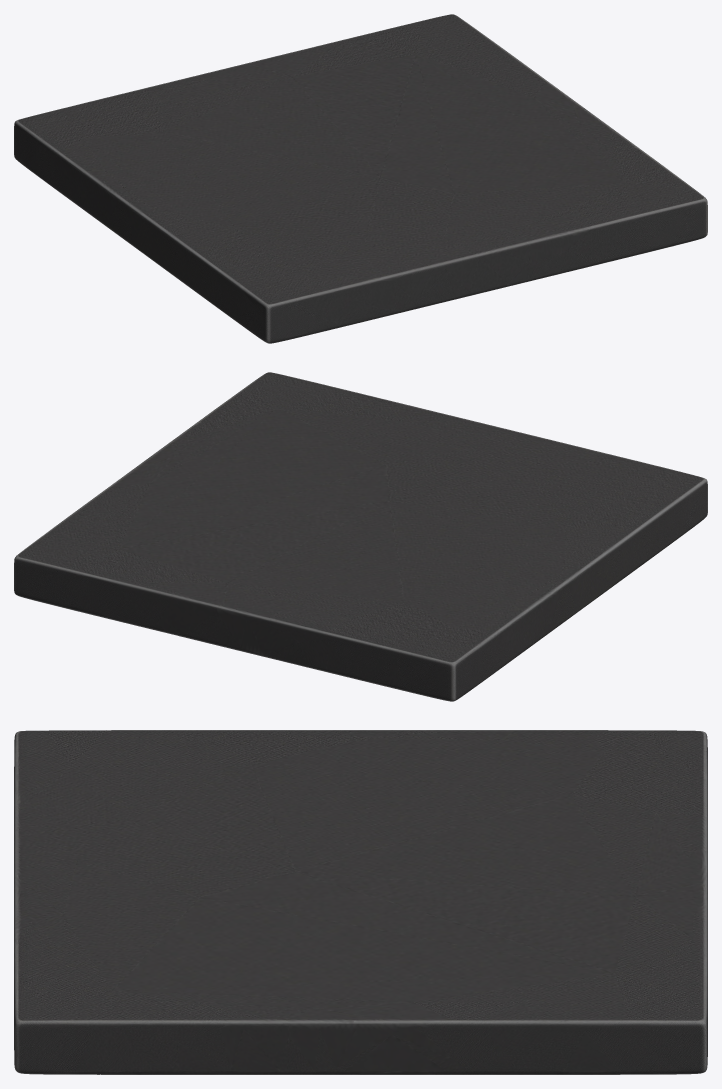
Rendered from floating-wall-shelf.glb.
3 renders of one model, top to bottom at view 1: azimuth 30°, elevation 25°; view 2: azimuth 150°, elevation 25°; view 3: azimuth 270°, elevation 25°, orthographic. The views are drawn at different scales.
Size of the model in its own units: 1.9 by 0.1762 by 1.9.
Materials: 1 (1 with a texture image).
